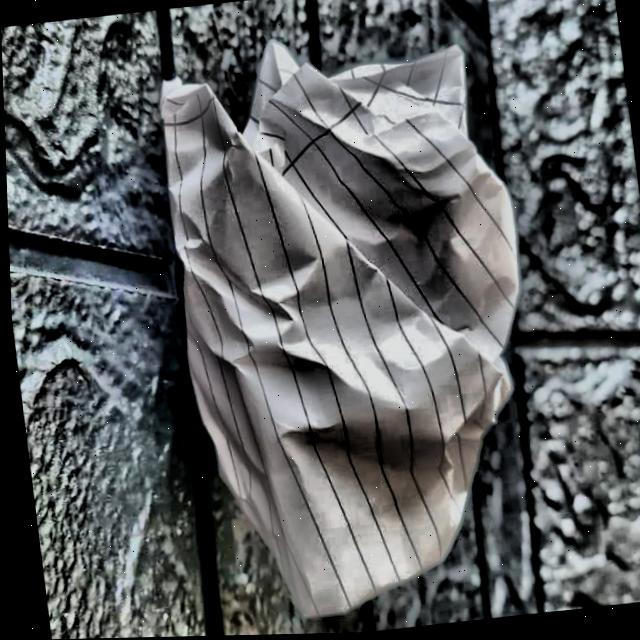paper: (132, 23, 562, 638)
